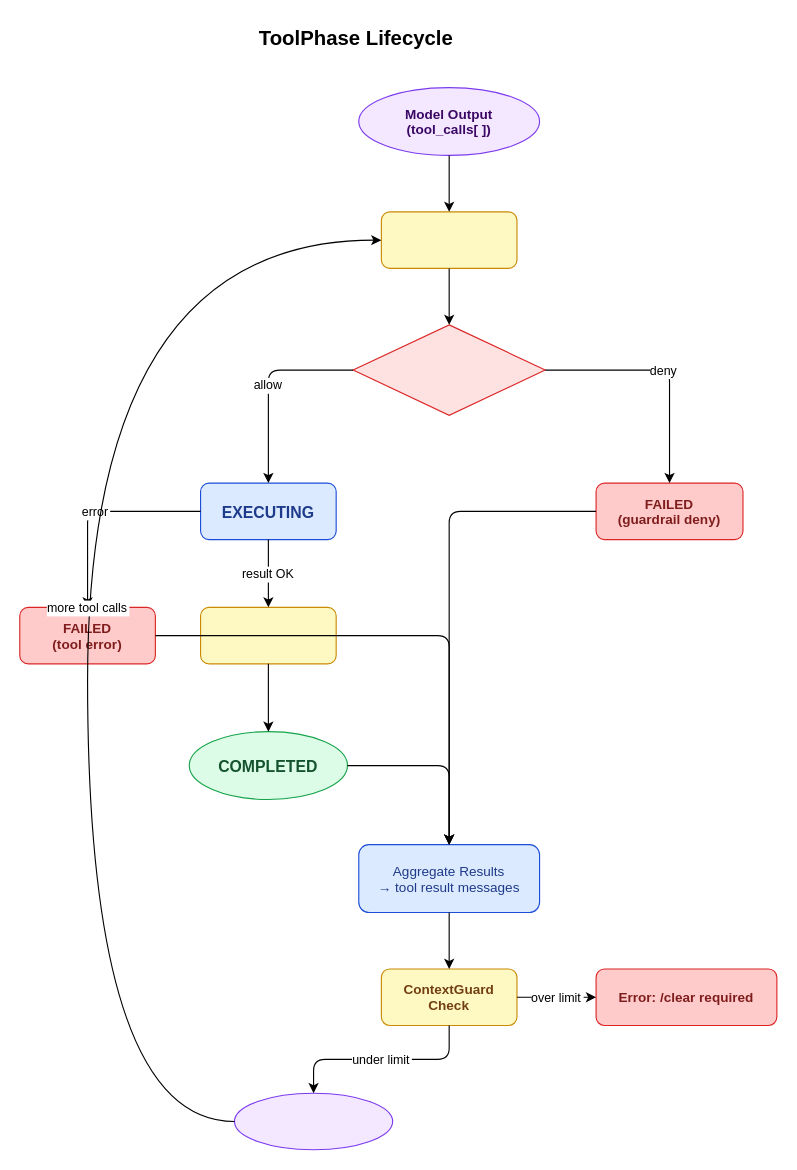
Some shapes in this 797 by 1170 pixel diagram are drawn without their labels. Each missing label, with the centre of its shape:
Cap Result (≤ 100 KB): the point at 267,635
Guardrail Check (evalRules): the point at 448,369
Next Model Call: the point at 313,1121
PENDING: the point at 448,239
